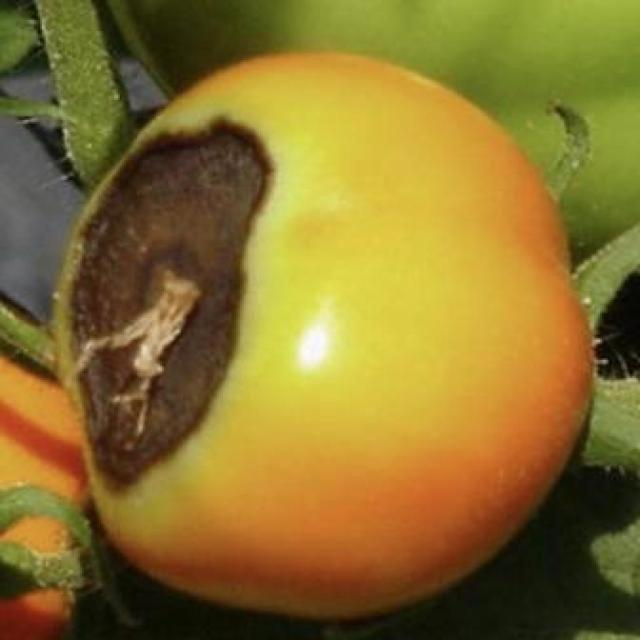Blossom End Rot Fruit: (48, 90, 184, 315)
